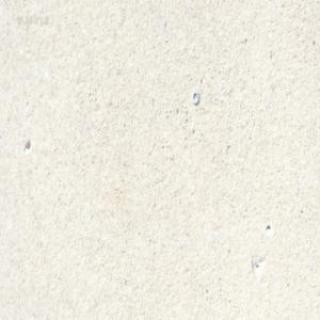Washertrack_idkeyframe: (190, 89, 198, 104)
